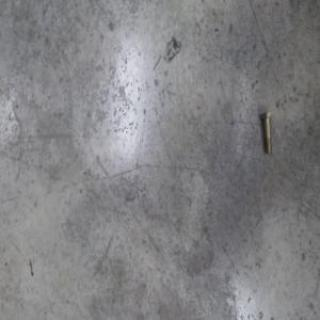Bolttrack_idkeyframe: (260, 109, 272, 153)
